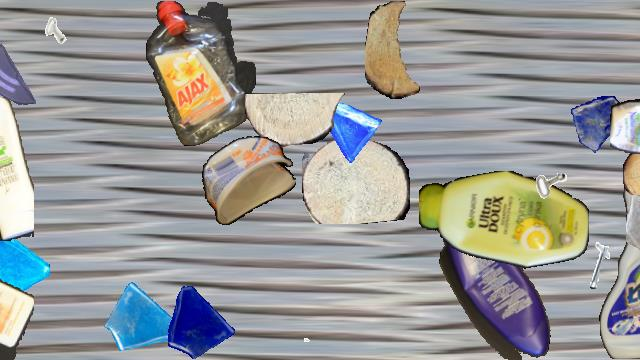glass: (104, 279, 184, 359), (159, 281, 237, 359), (312, 94, 382, 164), (0, 225, 50, 319), (571, 96, 627, 152), (0, 38, 40, 108), (626, 195, 640, 253)
metal: (515, 143, 575, 203), (575, 242, 631, 298), (37, 12, 75, 50), (279, 311, 317, 349)
plastic: (436, 217, 556, 359), (419, 171, 589, 271), (145, 1, 255, 145), (202, 136, 296, 226), (599, 169, 640, 359), (0, 97, 34, 241), (0, 247, 34, 359), (610, 92, 640, 156)
wood: (302, 136, 410, 224), (365, 1, 425, 99), (245, 93, 345, 147), (623, 146, 640, 206)
